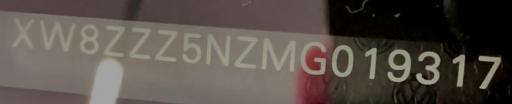letter: (472, 51, 506, 92), (38, 17, 76, 53), (260, 36, 298, 72), (298, 40, 328, 78), (202, 31, 232, 67), (415, 49, 443, 85), (386, 47, 412, 85), (330, 41, 356, 78), (100, 23, 126, 57), (232, 34, 258, 68), (154, 27, 178, 63), (12, 14, 36, 49), (77, 22, 101, 56), (128, 26, 152, 60), (447, 50, 467, 88), (181, 29, 203, 63), (363, 44, 379, 80)
